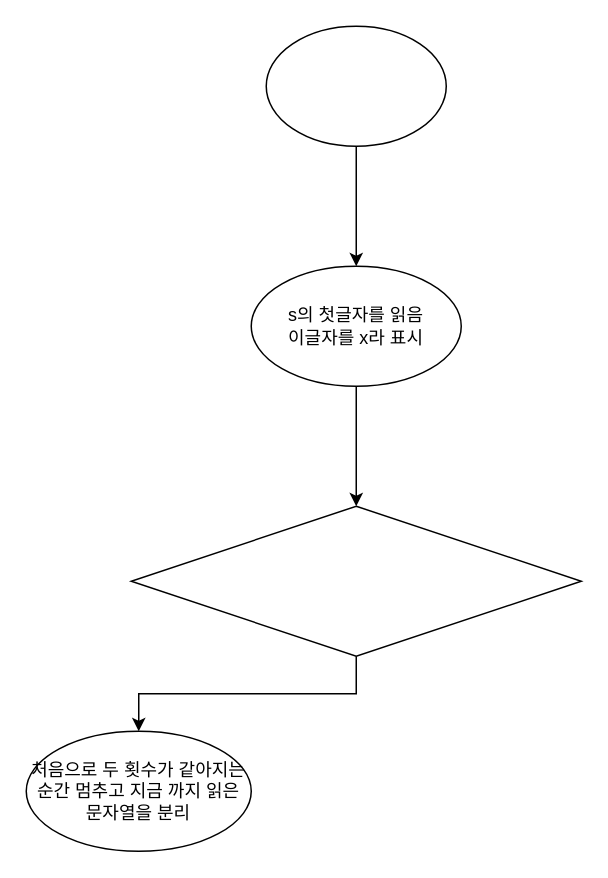
Some shapes in this 608 by 878 pixel diagram are drawn without their labels. The shapes that lost their labels are listed below. From the top down, each one's box as (x1, y1, x2, y2) in pixels, then its label:
(265, 25, 446, 146): 문자열 s를 받음
(130, 505, 581, 656): s를 왼쪽에서 오른쪽으로 읽거 가면서 x와 x가 아닌 다른 글자들이 나온 횟수를 각각 셈
